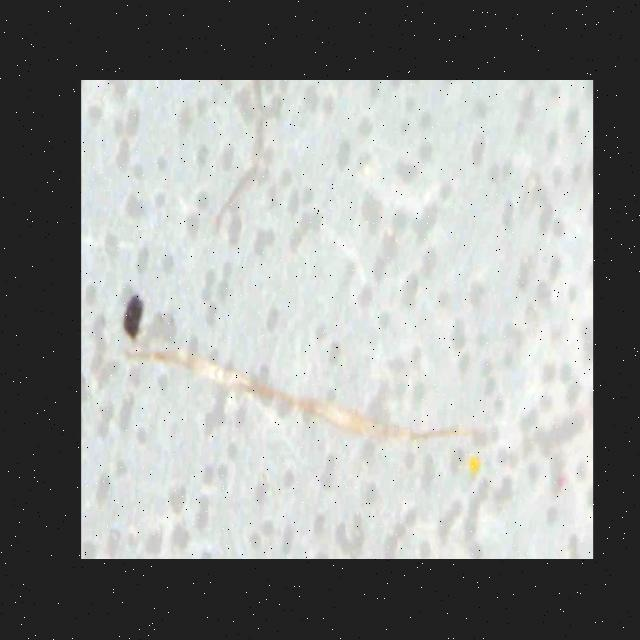Fibre: (116, 336, 490, 458)
